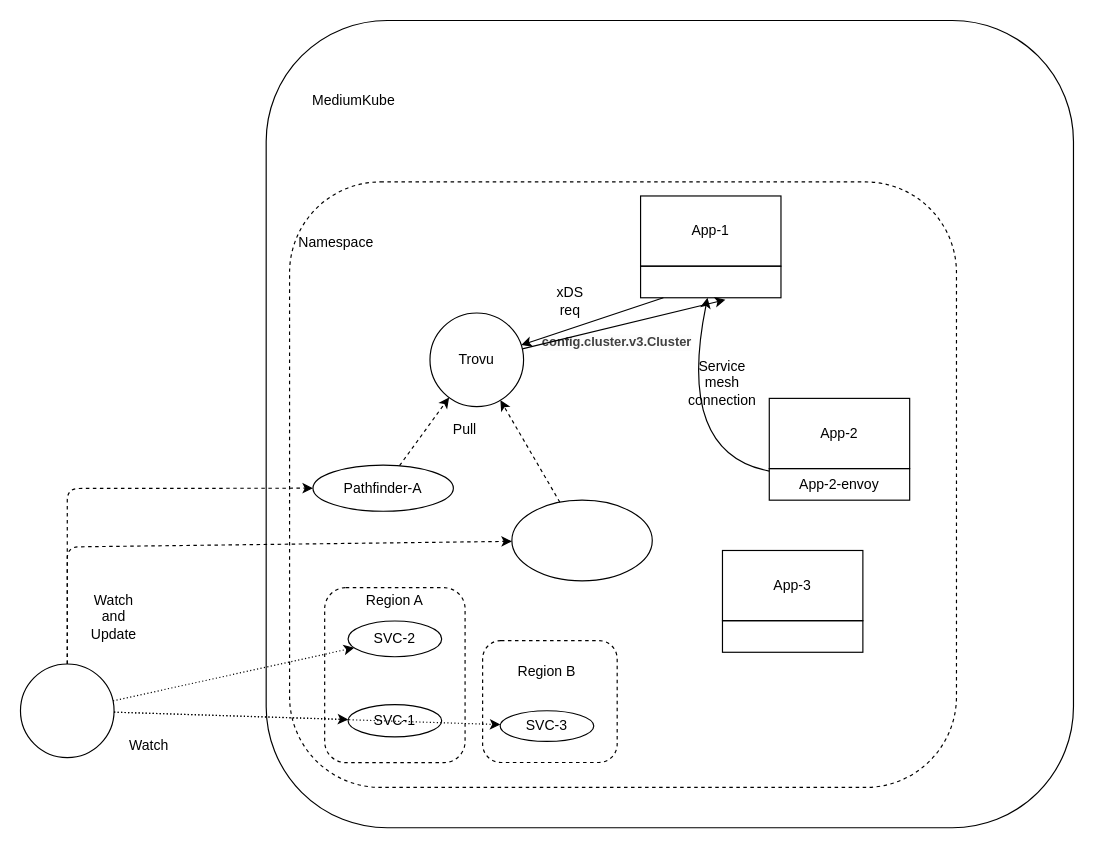
Some shapes in this 1094 by 848 pixel diagram are drawn without their labels. The shapes that lost their labels are listed below. From the top down, each one's box as (x1, y1, x2, y2) in pixels, then its label:
(639, 265, 781, 298): App-1-envoy
(511, 499, 652, 581): Pathfinder-B
(721, 620, 863, 652): App-3-envoy
(19, 663, 114, 758): Pathfinder Controller
